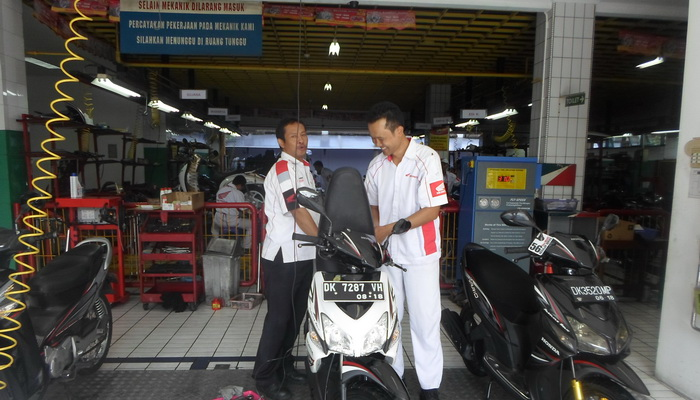plate: (322, 283, 383, 303), (568, 284, 615, 301)
